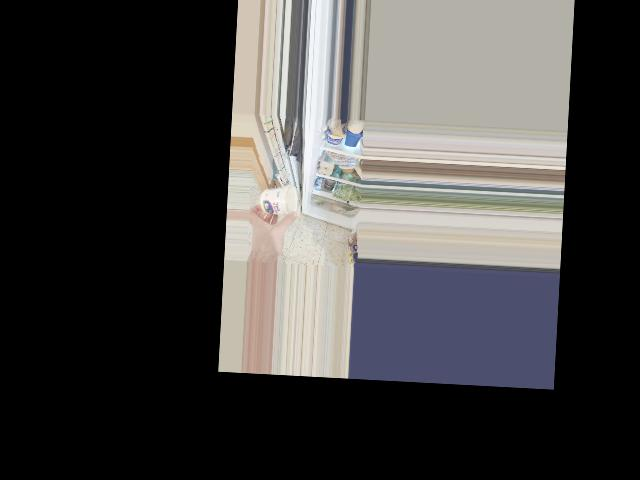cotage: (258, 185, 300, 218)
